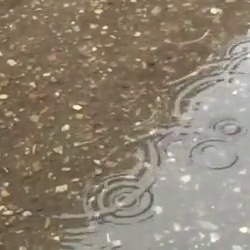drop: (174, 71, 250, 126), (85, 172, 156, 224), (105, 96, 156, 129), (190, 139, 238, 171), (156, 131, 196, 166), (213, 118, 244, 138)
